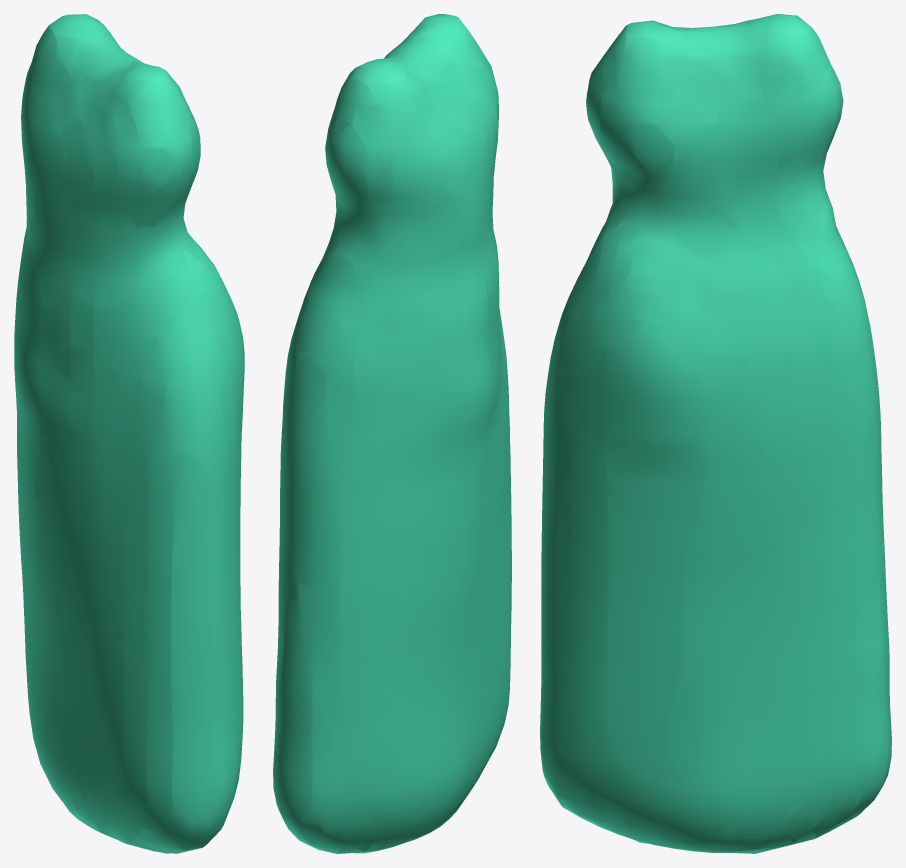
3 views of the same model, side by side, from view 1: azimuth 30°, elevation 25°; view 2: azimuth 150°, elevation 25°; view 3: azimuth 270°, elevation 25° (orthographic). The views are drawn at different scales.
Parts seen in each view (by area): view 1: Liquid_Domain; view 2: Liquid_Domain; view 3: Liquid_Domain.
Boxes of the visible parts, x1=… form: Liquid_Domain: x1=14, y1=14, x2=244, y2=853; Liquid_Domain: x1=273, y1=14, x2=511, y2=853; Liquid_Domain: x1=540, y1=14, x2=891, y2=853.
Bounding box in the file's own units: 1.5 × 6.27 × 2.47.
